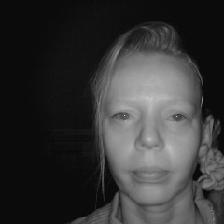normal: (84, 34, 223, 206)
